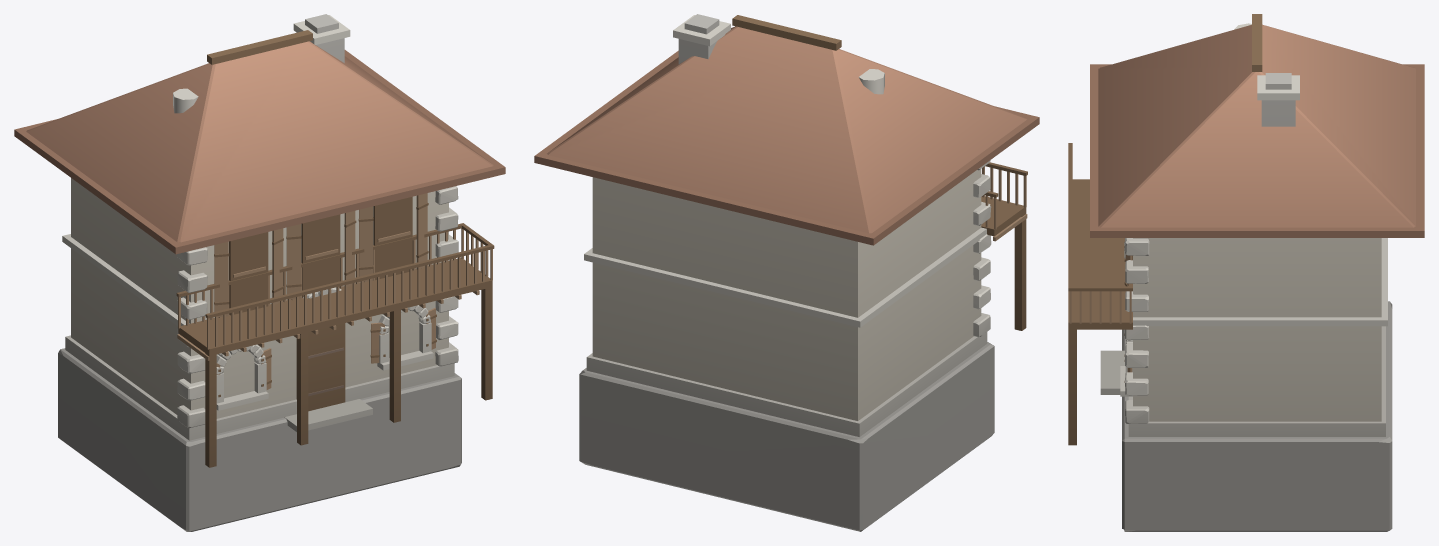
Rendered from haus_kolonial.glb.
3 views of the same model, side by side, from view 1: azimuth 30°, elevation 25°; view 2: azimuth 150°, elevation 25°; view 3: azimuth 270°, elevation 25° (orthographic). The views are drawn at different scales.
Visible parts, largest first — view 1: G_haus_kolonial; view 2: G_haus_kolonial; view 3: G_haus_kolonial.
Boxes of the visible parts, x1,y1,x2,y2 form: G_haus_kolonial: (14,14,505,531); G_haus_kolonial: (534,14,1039,531); G_haus_kolonial: (1068,14,1424,531).
Size of the model in its own units: 9.2 by 10.9 by 8.3.
